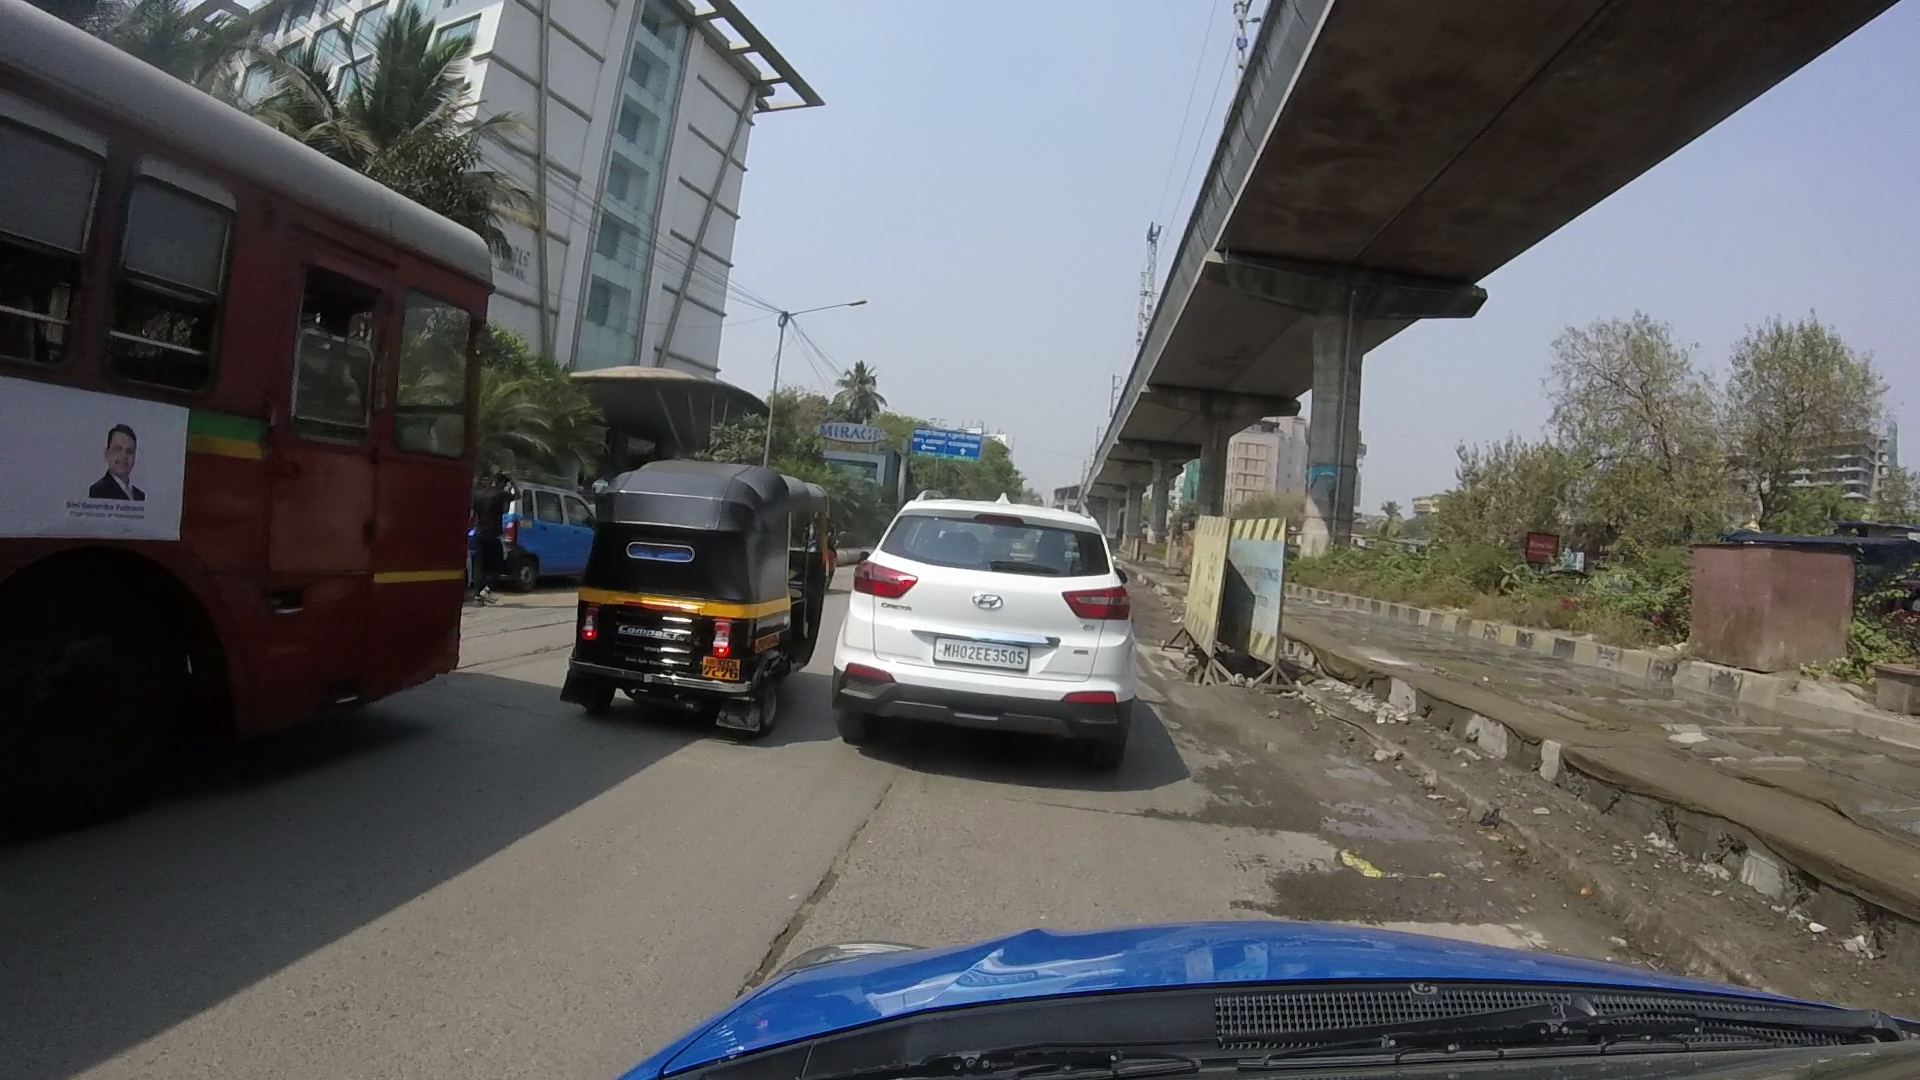bus: (11, 4, 498, 814)
car: (804, 448, 1149, 754)
rickshaw: (539, 434, 851, 737)
